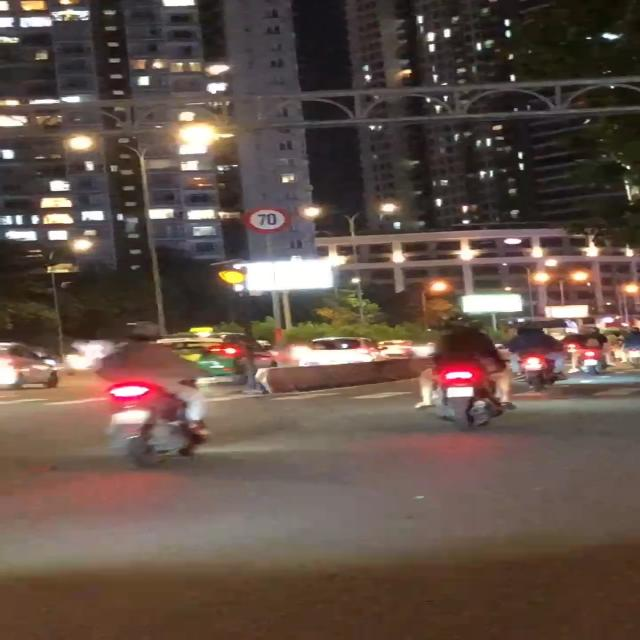Bien bao toc do toi da cho phep: (240, 207, 294, 234)
